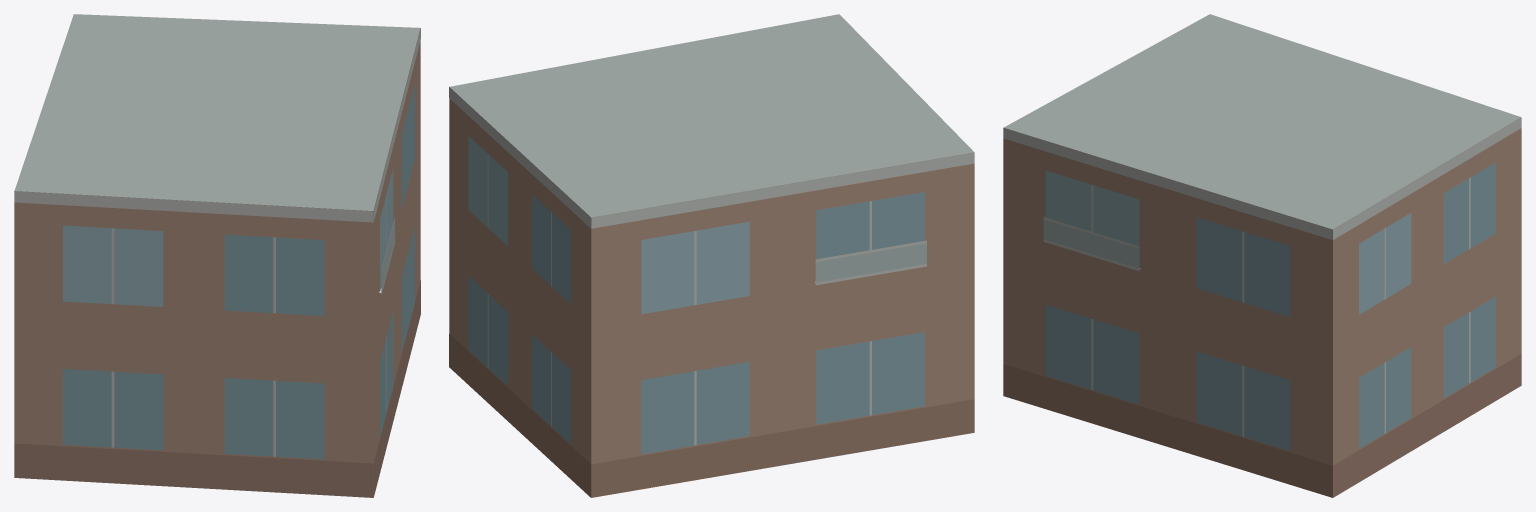
The model's file is survey-upis-32782523.glb.
3 renders of one model, left to right at view 1: azimuth 30°, elevation 25°; view 2: azimuth 150°, elevation 25°; view 3: azimuth 270°, elevation 25°, orthographic. The views are drawn at different scales.
Visible parts, largest first — view 1: survey-upis-32782523.tmp; view 2: survey-upis-32782523.tmp; view 3: survey-upis-32782523.tmp.
Boxes of the visible parts, x1,y1,x2,y2 form: survey-upis-32782523.tmp: [14, 14, 420, 497]; survey-upis-32782523.tmp: [449, 14, 974, 497]; survey-upis-32782523.tmp: [1003, 14, 1521, 497].
Size of the model in its own units: 10.51 by 6.1 by 10.68.
